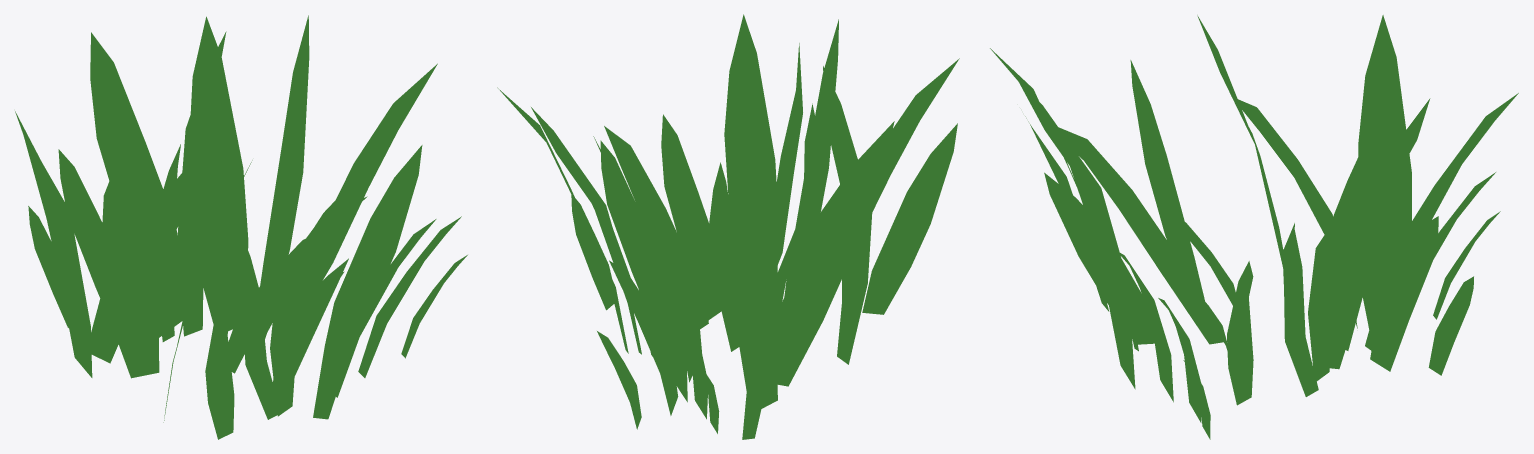
File: Grass_01.FBX
3 views of the same model, side by side, from view 1: azimuth 30°, elevation 25°; view 2: azimuth 150°, elevation 25°; view 3: azimuth 270°, elevation 25° (orthographic). The views are drawn at different scales.
Parts seen in each view (by area): view 1: SM_Grass_Clump_01; view 2: SM_Grass_Clump_01; view 3: SM_Grass_Clump_01.
Part boxes in pixels (bbox=[...]): SM_Grass_Clump_01: bbox=[15, 15, 467, 439]; SM_Grass_Clump_01: bbox=[497, 14, 959, 439]; SM_Grass_Clump_01: bbox=[990, 15, 1518, 439].
Bounding box in the file's own units: 154 × 118 × 180.
